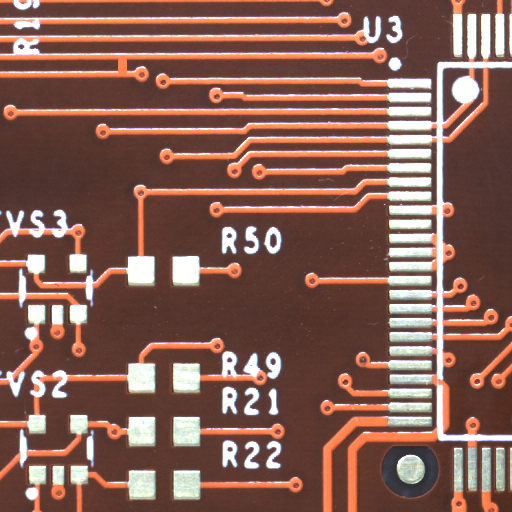Short: (122, 65, 136, 83)
